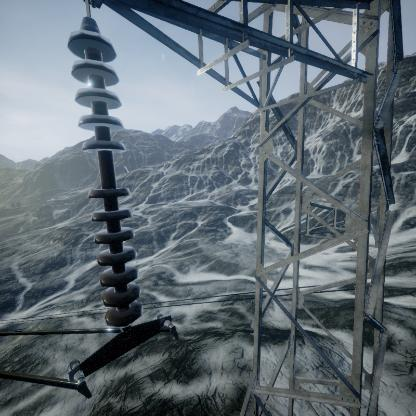insulator: (67, 16, 142, 328)
